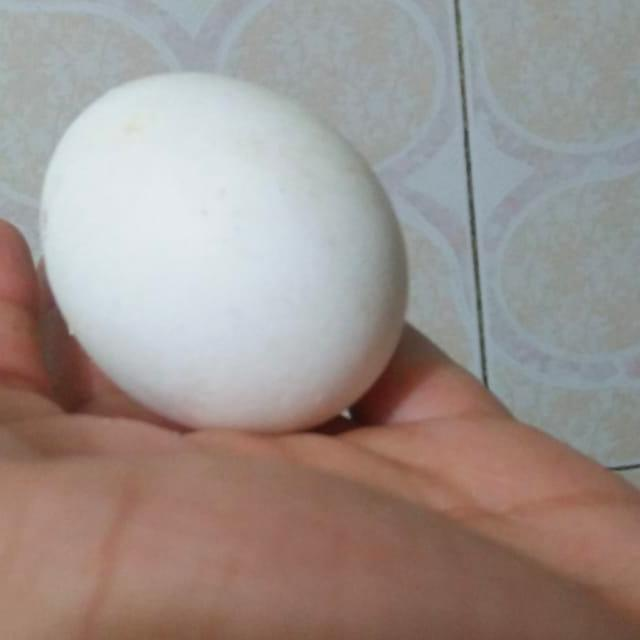egg: (34, 66, 411, 435)
